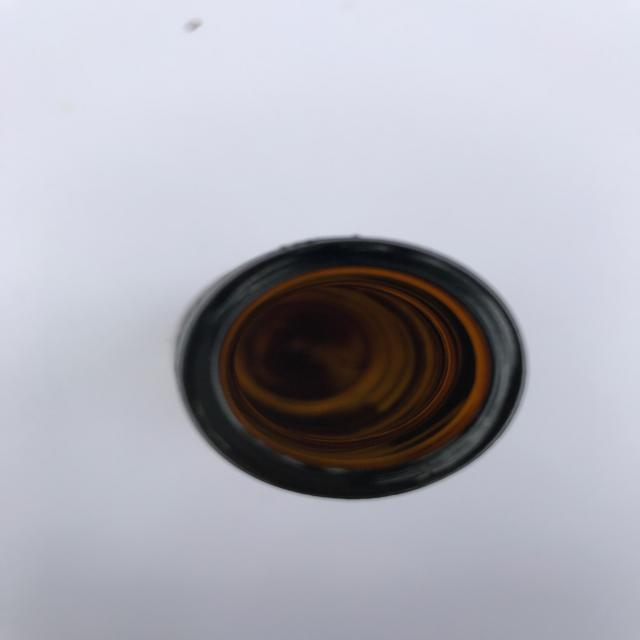Glass: (164, 198, 549, 520)
